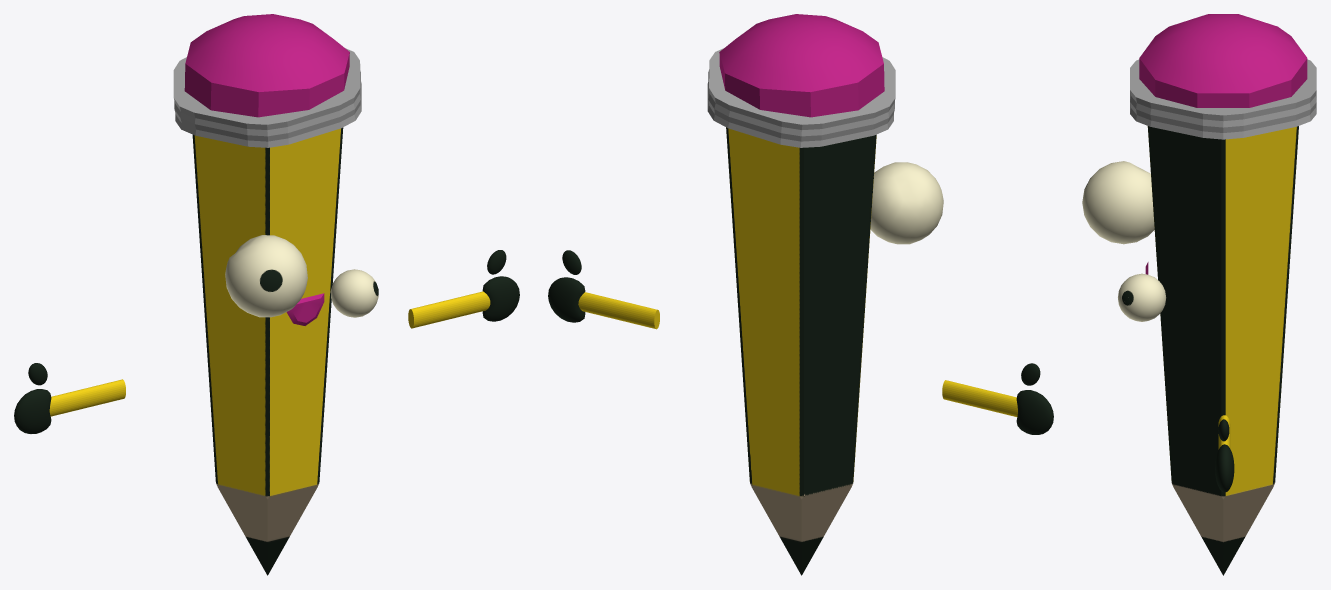
File: Pencil.glb
The picture shows the model from 3 angles, left to right: view 1: azimuth 30°, elevation 25°; view 2: azimuth 150°, elevation 25°; view 3: azimuth 270°, elevation 25°; orthographic projection.
Visible parts, largest first — view 1: Head, Eraser, Top, Eye R.001, Eye L, Arm L, Arm R, Hand R, Hand L, Mouth; view 2: Head, Eraser, Top, Eye R.001, Arm L, Arm R, Hand R, Hand L; view 3: Head, Eraser, Top, Eye R.001, Eye L, Hand L.
Part boxes in pixels (<box>): Head: <box>192,127,343,575</box>; Eraser: <box>184,14,349,117</box>; Top: <box>173,48,361,147</box>; Eye R.001: <box>225,235,307,317</box>; Eye L: <box>330,269,378,317</box>; Arm L: <box>408,291,490,328</box>; Arm R: <box>49,379,125,416</box>; Hand R: <box>14,389,51,433</box>; Hand L: <box>482,276,519,321</box>; Mouth: <box>286,293,324,325</box>; Head: <box>726,127,876,575</box>; Eraser: <box>719,14,884,117</box>; Top: <box>707,48,895,147</box>; Eye R.001: <box>870,162,943,244</box>; Arm L: <box>578,292,659,329</box>; Arm R: <box>942,380,1017,416</box>; Hand R: <box>1016,390,1053,434</box>; Hand L: <box>548,277,585,322</box>; Head: <box>1147,126,1298,575</box>; Eraser: <box>1139,14,1307,107</box>; Top: <box>1130,59,1316,139</box>; Eye R.001: <box>1082,161,1154,244</box>; Eye L: <box>1118,273,1166,321</box>; Hand L: <box>1215,444,1234,492</box>.
Bounding box in the file's own units: 1.92 × 2 × 0.7708.
Materials: 7 (3 with a texture image).
